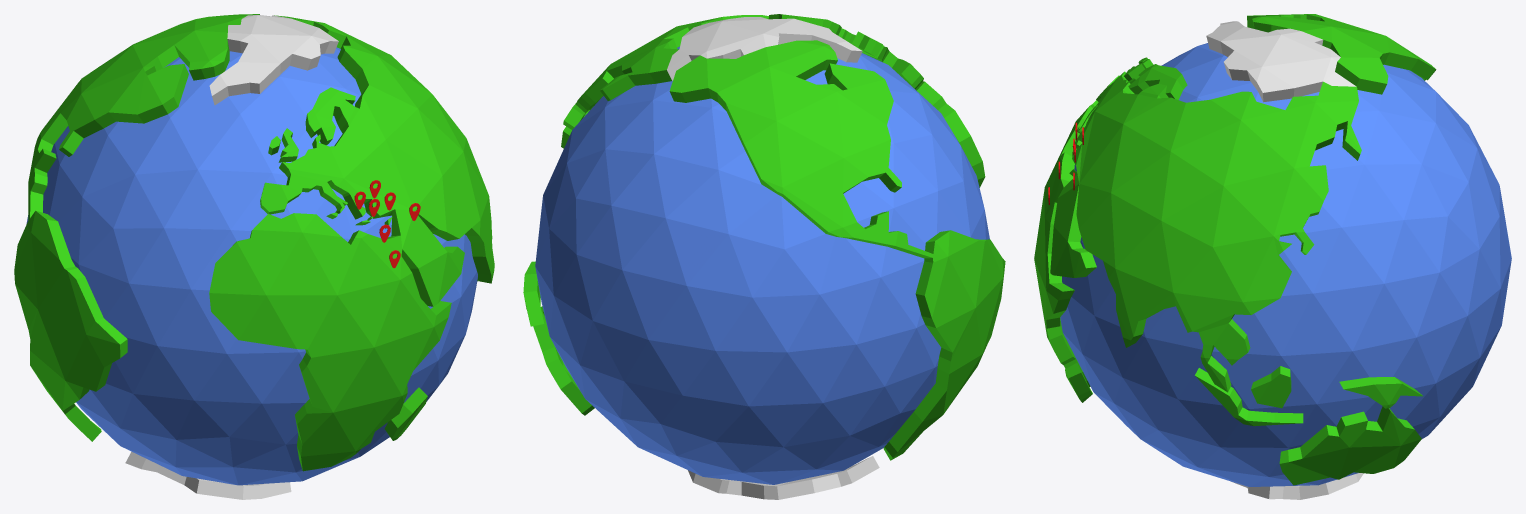
File: Globe2.glb
The picture shows the model from 3 angles, left to right: view 1: azimuth 30°, elevation 25°; view 2: azimuth 150°, elevation 25°; view 3: azimuth 270°, elevation 25°; orthographic projection.
Parts seen in each view (by area): view 1: Icosphere.003, Icosphere.004; view 2: Icosphere.004, Icosphere.003; view 3: Icosphere.004, Icosphere.003.
Boxes of the visible parts, bbox=[...] form: Icosphere.003: bbox=[14, 14, 494, 499]; Icosphere.004: bbox=[26, 47, 477, 485]; Icosphere.004: bbox=[535, 46, 989, 484]; Icosphere.003: bbox=[523, 14, 1005, 499]; Icosphere.004: bbox=[1060, 43, 1511, 486]; Icosphere.003: bbox=[1034, 14, 1436, 499].
Size of the model in its own units: 8.53 by 8.57 by 8.28.
